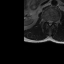CCS_normal: (49, 19, 51, 27)
LFS_severe_stenosis: (53, 19, 55, 24)
LLS_normal: (51, 19, 53, 25)
RFS_stenosis: (45, 19, 47, 23)
RLS_stenosis: (47, 19, 49, 25)
